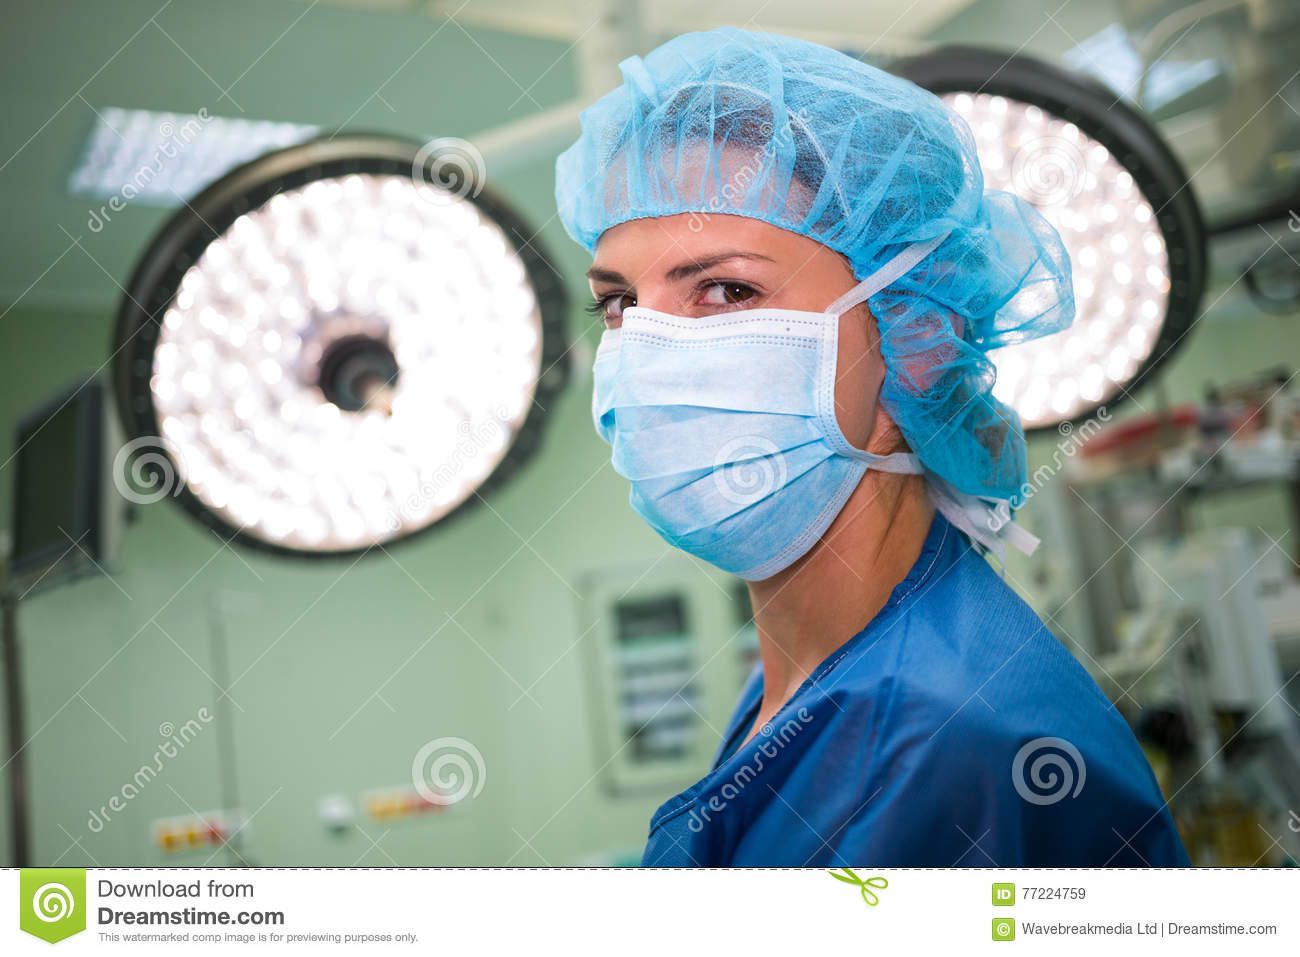mask: (572, 305, 897, 586)
